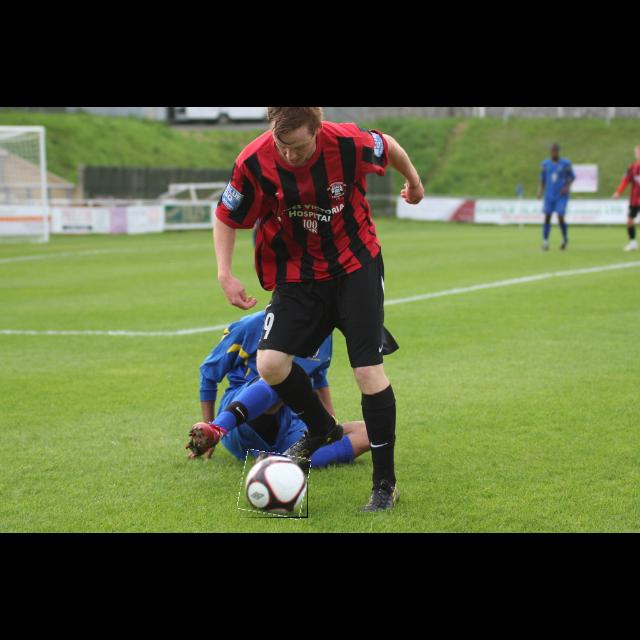Football: (240, 452, 308, 518)
